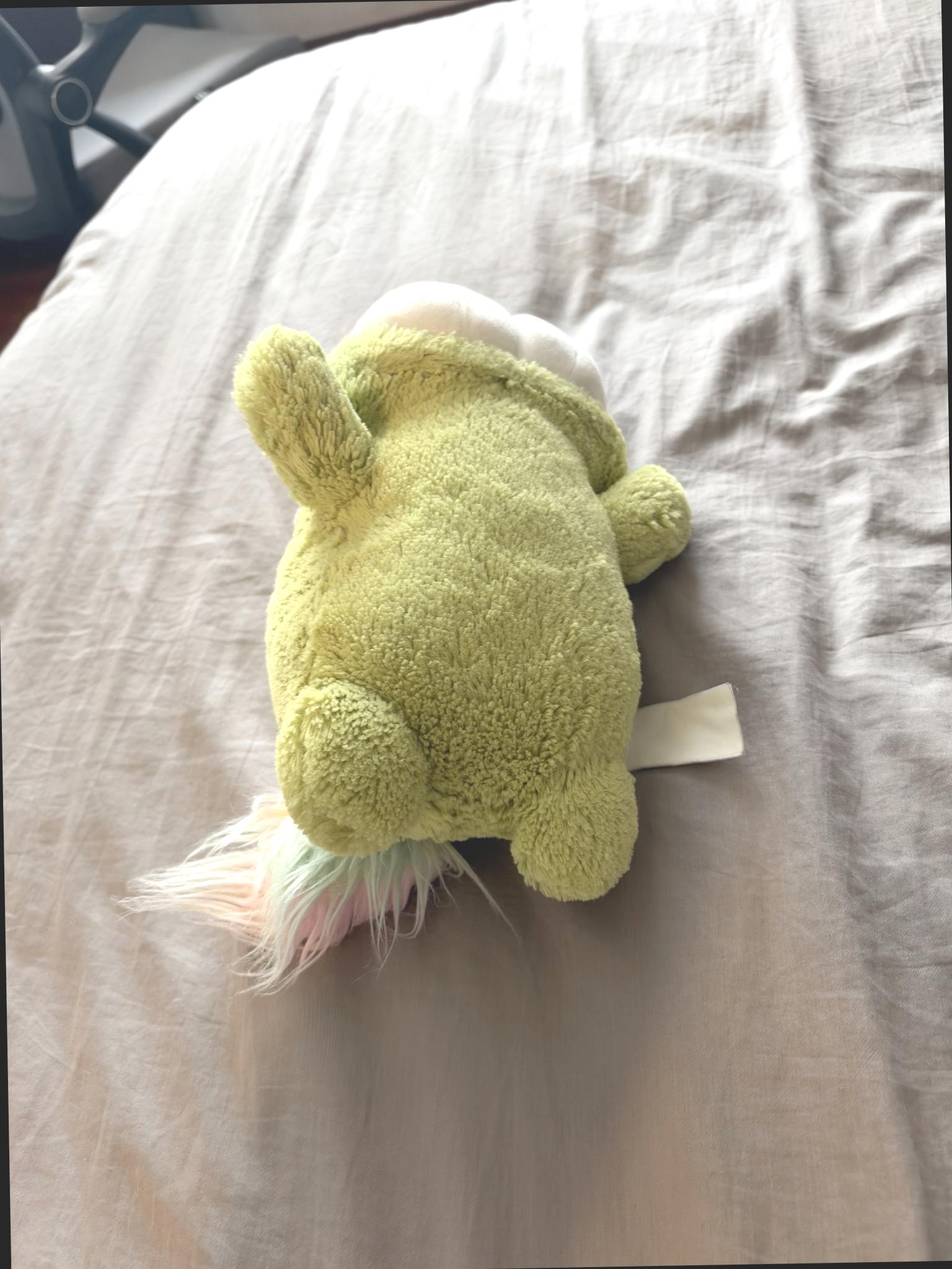peluche_martin: (103, 274, 699, 995)
